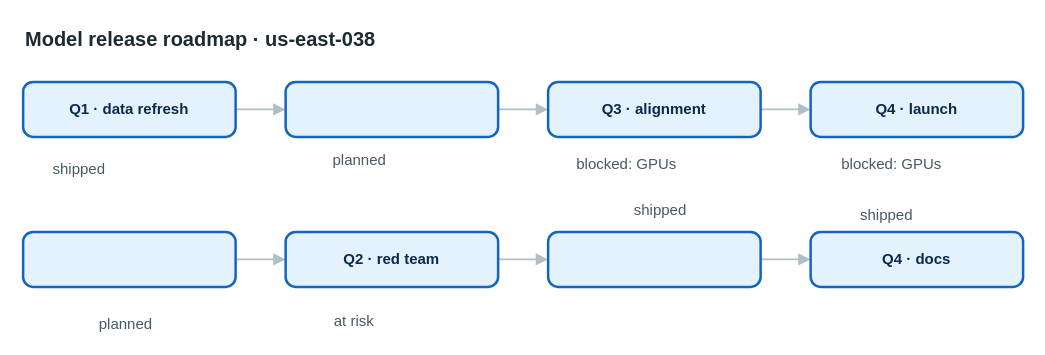
The diagram is 1045 pixels wide and 355 high, and some of its shapes have lost their labels. Each missing label, with the centre of its shape:
"Q1 · eval suite" belongs at [128,259].
"Q2 · pretrain" belongs at [391,109].
"Q3 · serving" belongs at [653,259].
